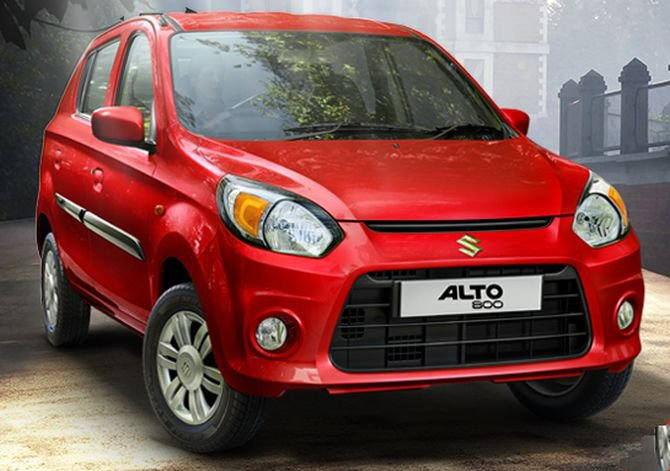car: (38, 11, 643, 426)
